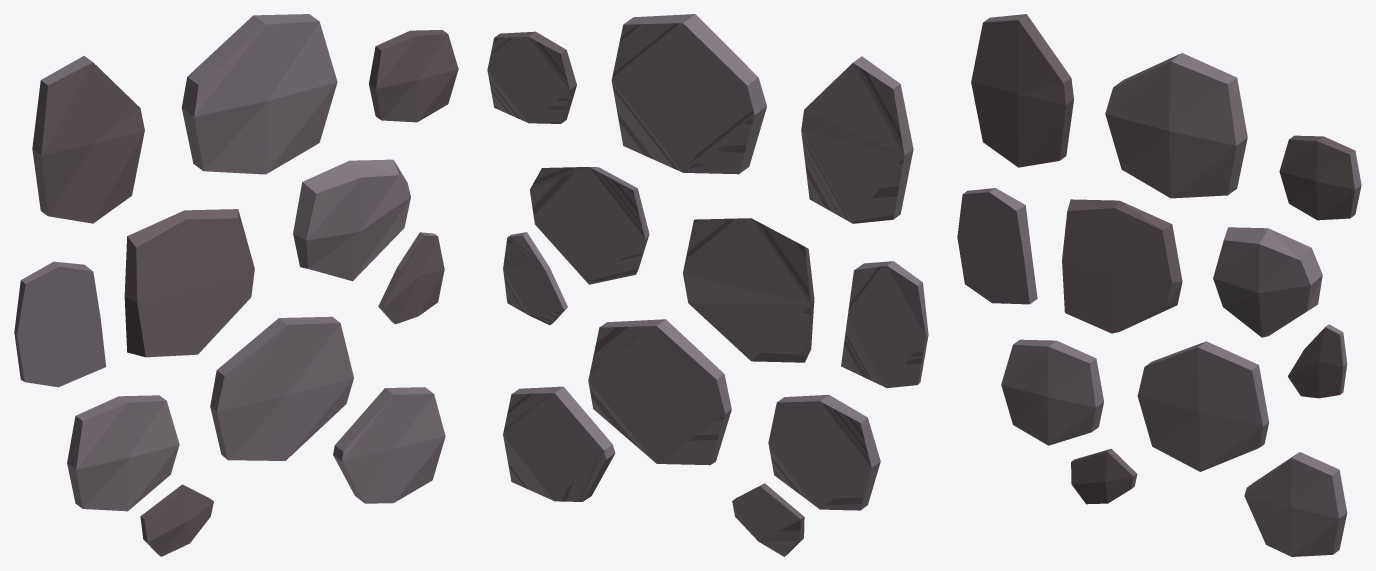
File: path.obj
3 views of the same model, side by side, from view 1: azimuth 30°, elevation 25°; view 2: azimuth 150°, elevation 25°; view 3: azimuth 330°, elevation 25° (orthographic). The views are drawn at different scales.
Parts seen in each view (by area): view 1: Object.2, Object.4, Object.5, Object.9, Object.3, Object.8, Object.7, Object.10, Object.6, Object.11, Object.1; view 2: Object.2, Object.5, Object.4, Object.9, Object.3, Object.8, Object.7, Object.10, Object.6, Object.11, Object.1; view 3: Object.2, Object.4, Object.5, Object.9, Object.3, Object.8, Object.7, Object.10, Object.6, Object.11, Object.1.
Boxes of the visible parts, left/top/right/bottom form: Object.2: left=181, top=14, right=337, bottom=174; Object.4: left=124, top=209, right=254, bottom=357; Object.5: left=210, top=316, right=353, bottom=460; Object.9: left=32, top=56, right=144, bottom=223; Object.3: left=293, top=159, right=410, bottom=281; Object.8: left=67, top=395, right=179, bottom=511; Object.7: left=333, top=387, right=445, bottom=503; Object.10: left=14, top=261, right=106, bottom=387; Object.6: left=369, top=30, right=458, bottom=122; Object.11: left=378, top=232, right=444, bottom=324; Object.1: left=140, top=484, right=213, bottom=556; Object.2: left=611, top=14, right=766, bottom=174; Object.5: left=588, top=319, right=731, bottom=465; Object.4: left=683, top=218, right=814, bottom=362; Object.9: left=801, top=56, right=913, bottom=223; Object.3: left=530, top=167, right=649, bottom=284; Object.8: left=768, top=394, right=880, bottom=510; Object.7: left=503, top=386, right=615, bottom=501; Object.10: left=841, top=261, right=928, bottom=387; Object.6: left=487, top=31, right=576, bottom=123; Object.11: left=503, top=232, right=567, bottom=325; Object.1: left=732, top=483, right=804, bottom=556; Object.2: left=1105, top=53, right=1247, bottom=198; Object.4: left=1062, top=199, right=1182, bottom=333; Object.5: left=1137, top=341, right=1268, bottom=471; Object.9: left=971, top=14, right=1073, bottom=167; Object.3: left=1213, top=227, right=1322, bottom=337; Object.8: left=1001, top=339, right=1103, bottom=445; Object.7: left=1244, top=452, right=1347, bottom=556; Object.10: left=957, top=188, right=1037, bottom=304; Object.6: left=1279, top=135, right=1361, bottom=220; Object.11: left=1288, top=324, right=1347, bottom=398; Object.1: left=1071, top=448, right=1137, bottom=504.
Bounding box in the file's own units: 1697 × 1902 × 114.
Materials: 1 (1 with a texture image).
